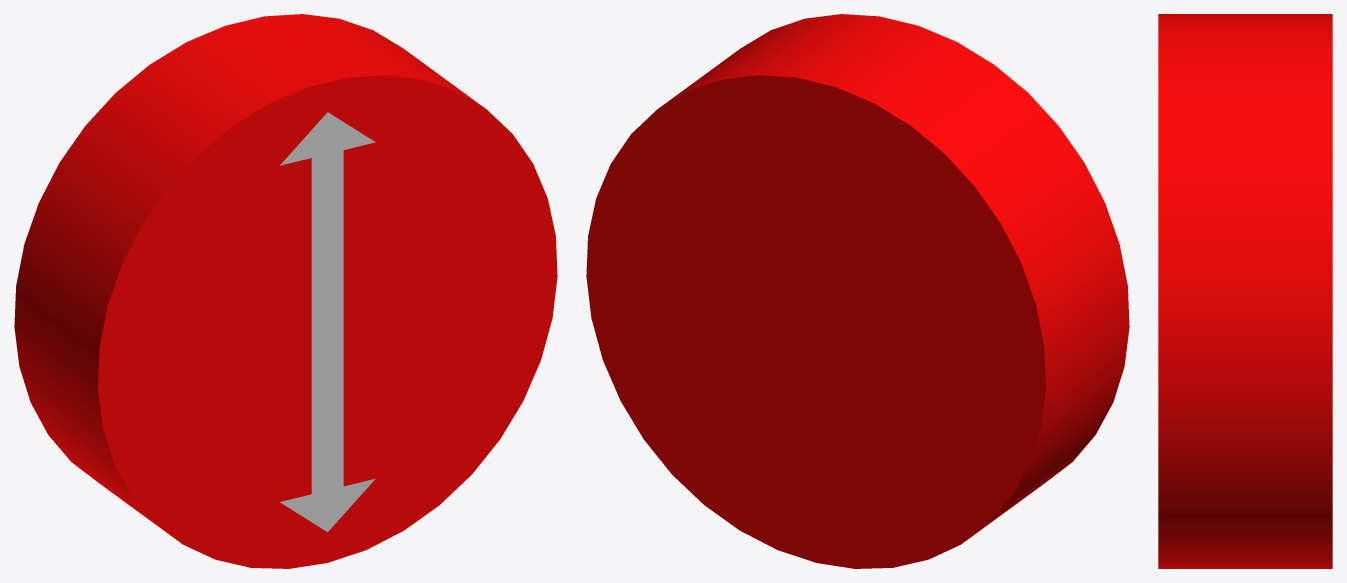
The model's file is SSB.gltf.
The picture shows the model from 3 angles, left to right: view 1: azimuth 30°, elevation 25°; view 2: azimuth 150°, elevation 25°; view 3: azimuth 270°, elevation 25°; orthographic projection. The views are drawn at different scales.
Parts seen in each view (by area): view 1: Surface 67, Surface 36; view 2: Surface 67; view 3: Surface 67.
Part boxes in pixels (<box>): Surface 67: <box>14,14,557,568</box>; Surface 36: <box>280,112,375,532</box>; Surface 67: <box>586,14,1129,568</box>; Surface 67: <box>1158,14,1332,568</box>.
Bounding box in the file's own units: 0.0107 × 0.0107 × 0.00337.
